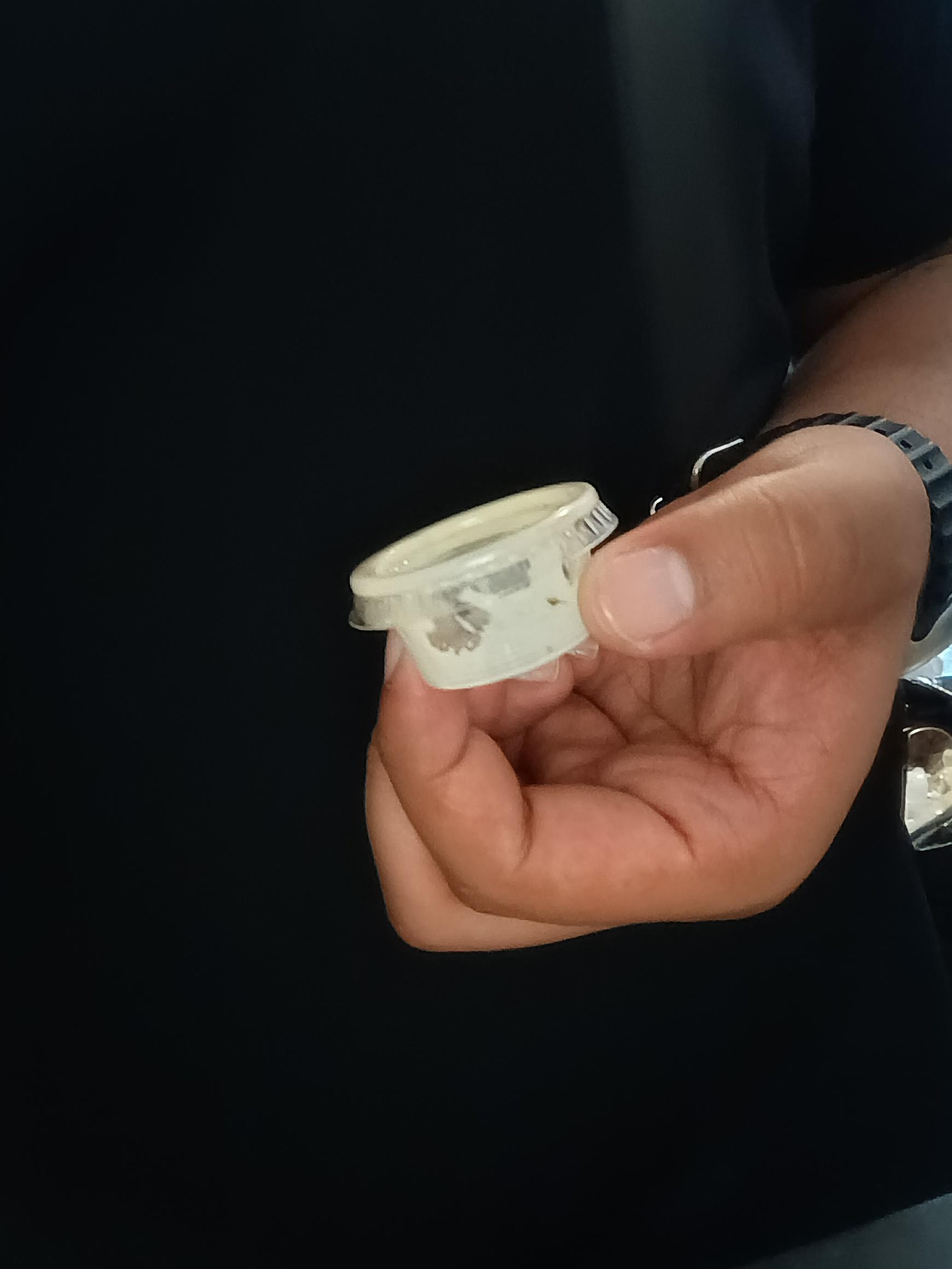Ordinario: (345, 481, 620, 694)
